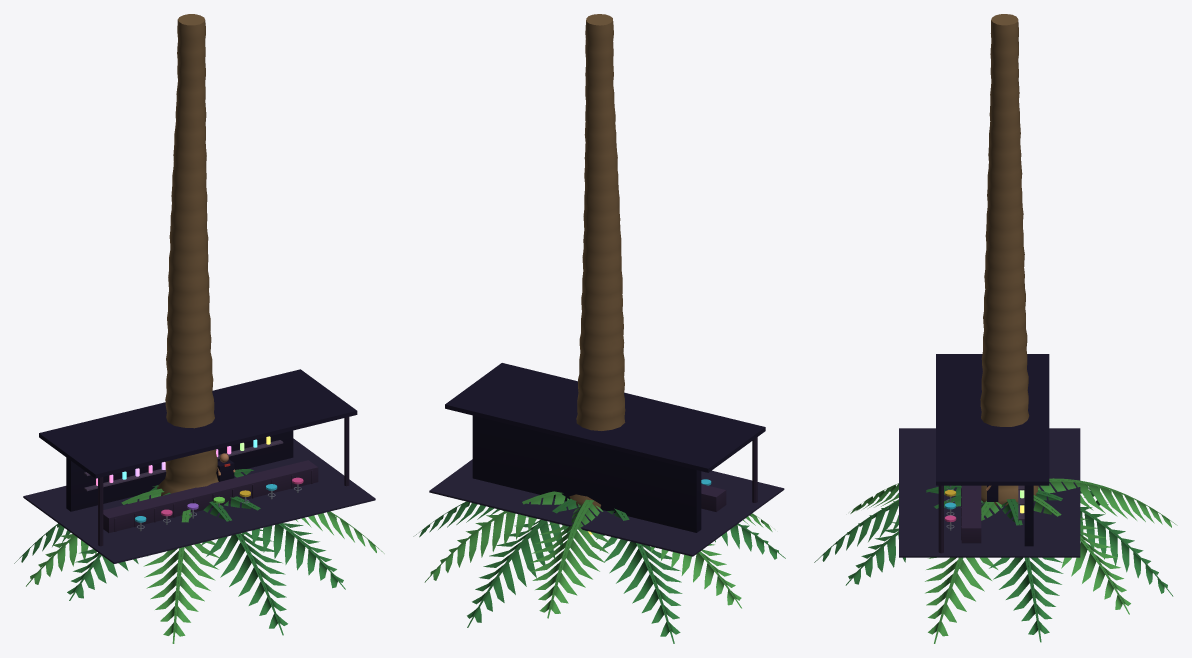
File: hipa.glb
3 renders of one model, left to right at view 1: azimuth 30°, elevation 25°; view 2: azimuth 150°, elevation 25°; view 3: azimuth 270°, elevation 25°, orthographic.
Parts seen in each view (by area): view 1: club-dark, giant-bark, club-floor, giant-leaf, club-purple, giant-leaf-light, club-shelf; view 2: club-dark, giant-bark, club-floor, giant-leaf-light, giant-leaf, club-purple; view 3: giant-bark, club-floor, club-dark, giant-leaf, giant-leaf-light, club-purple.
Boxes of the visible parts, left/top/right/bottom form: club-dark: left=39, top=369, right=357, bottom=511; giant-bark: left=157, top=14, right=218, bottom=495; club-floor: left=23, top=438, right=375, bottom=563; giant-leaf: left=14, top=469, right=345, bottom=635; club-purple: left=98, top=417, right=349, bottom=546; giant-leaf-light: left=26, top=488, right=384, bottom=643; club-shelf: left=84, top=440, right=283, bottom=491; club-dark: left=445, top=363, right=765, bottom=532; giant-bark: left=569, top=14, right=625, bottom=509; club-floor: left=429, top=459, right=784, bottom=556; giant-leaf-light: left=424, top=491, right=772, bottom=618; giant-leaf: left=413, top=499, right=785, bottom=643; club-purple: left=701, top=437, right=757, bottom=511; giant-bark: left=980, top=14, right=1038, bottom=505; club-floor: left=899, top=428, right=1080, bottom=557; club-dark: left=936, top=354, right=1049, bottom=546; giant-leaf: left=814, top=485, right=1173, bottom=642; giant-leaf-light: left=850, top=478, right=1177, bottom=643; club-purple: left=938, top=485, right=981, bottom=553.
Size of the model in its own units: 24.51 by 40.44 by 24.05.
